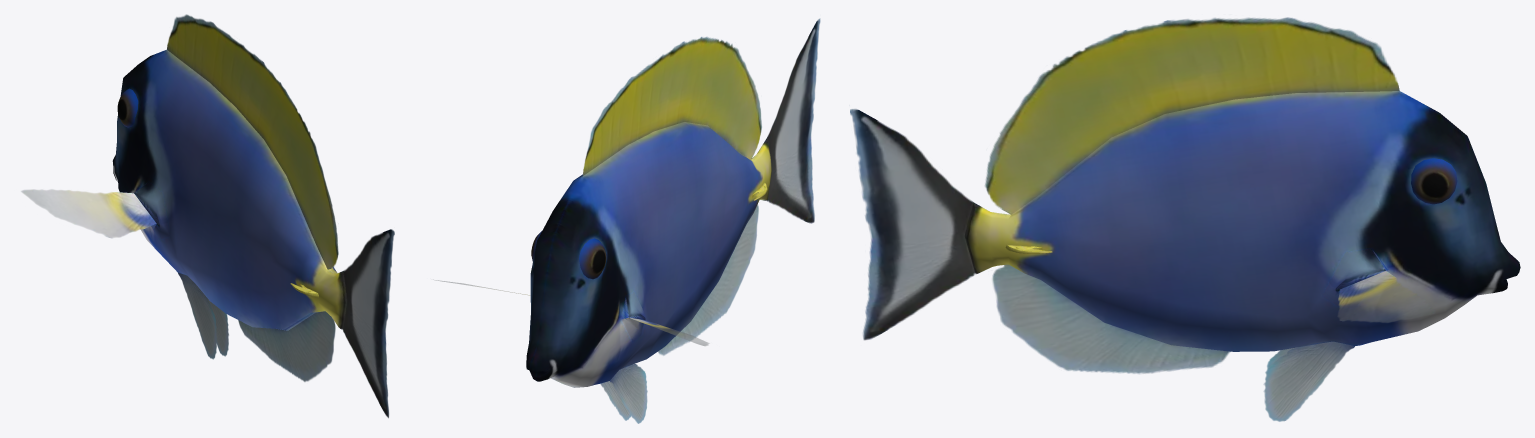
The model's file is ptang.glb.
3 renders of one model, left to right at view 1: azimuth 30°, elevation 25°; view 2: azimuth 150°, elevation 25°; view 3: azimuth 270°, elevation 25°, orthographic. The views are drawn at different scales.
Visible parts, largest first — view 1: Object_7; view 2: Object_7; view 3: Object_7.
Part boxes in pixels (bbox=[...]): Object_7: bbox=[21, 14, 394, 417]; Object_7: bbox=[435, 18, 820, 423]; Object_7: bbox=[850, 17, 1520, 421].
Size of the model in its own units: 6.11 by 7.19 by 10.75.
Materials: 1 (1 with a texture image).
